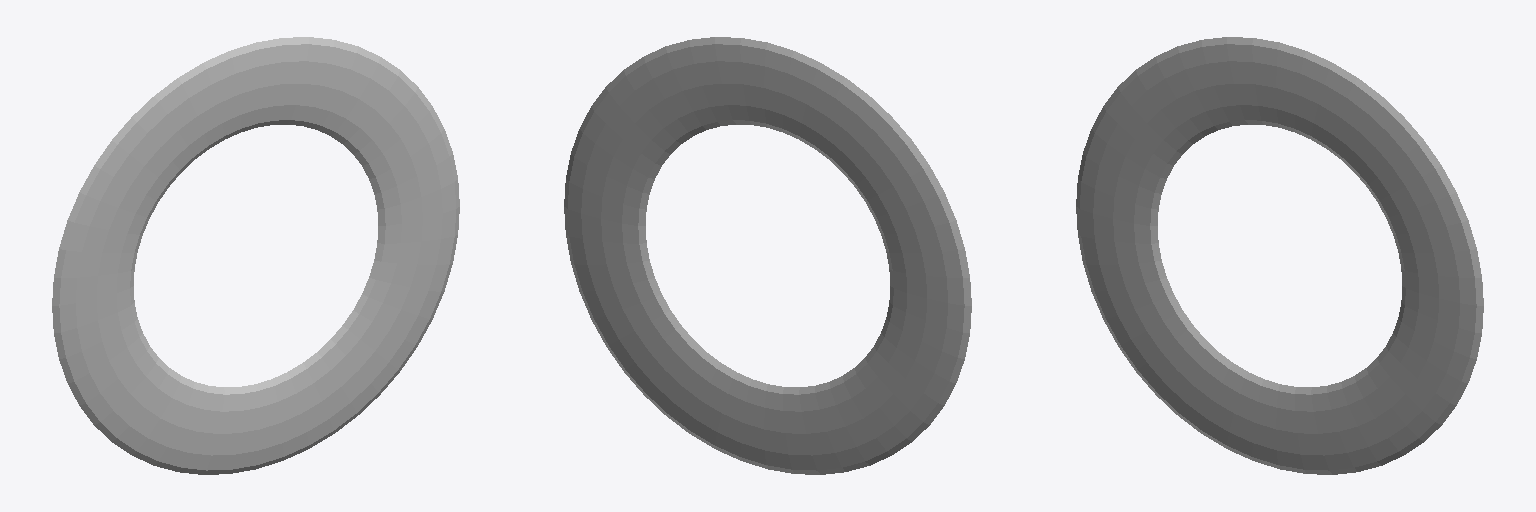
The model's file is ExhaustParticle.obj.
3 renders of one model, left to right at view 1: azimuth 30°, elevation 25°; view 2: azimuth 150°, elevation 25°; view 3: azimuth 330°, elevation 25°, orthographic.
Visible parts, largest first — view 1: Torus; view 2: Torus; view 3: Torus.
Boxes of the visible parts, <box> form: Torus: <box>52,37,459,474</box>; Torus: <box>564,37,971,474</box>; Torus: <box>1076,37,1483,474</box>.
Size of the model in its own units: 2.5 by 2.5 by 0.08.